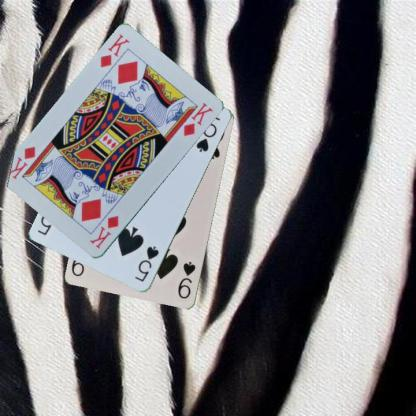5s: (132, 244, 161, 284)
9s: (175, 259, 197, 300)
Kd: (97, 32, 131, 70), (87, 213, 120, 250)
